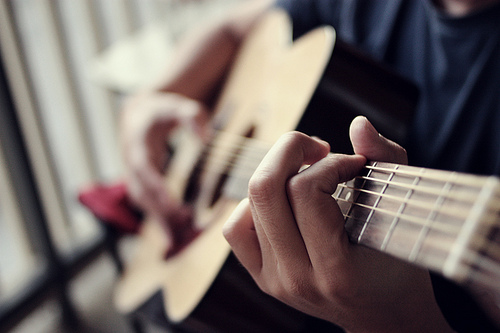guitar: (117, 1, 499, 318)
